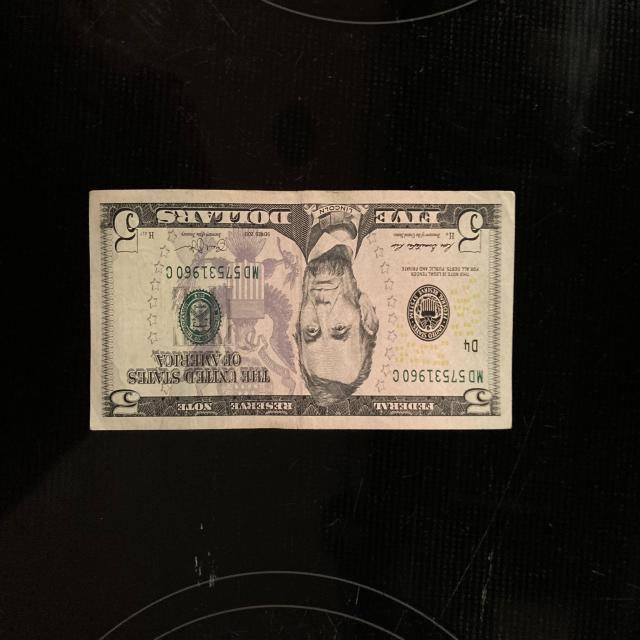five: (89, 188, 516, 430)
